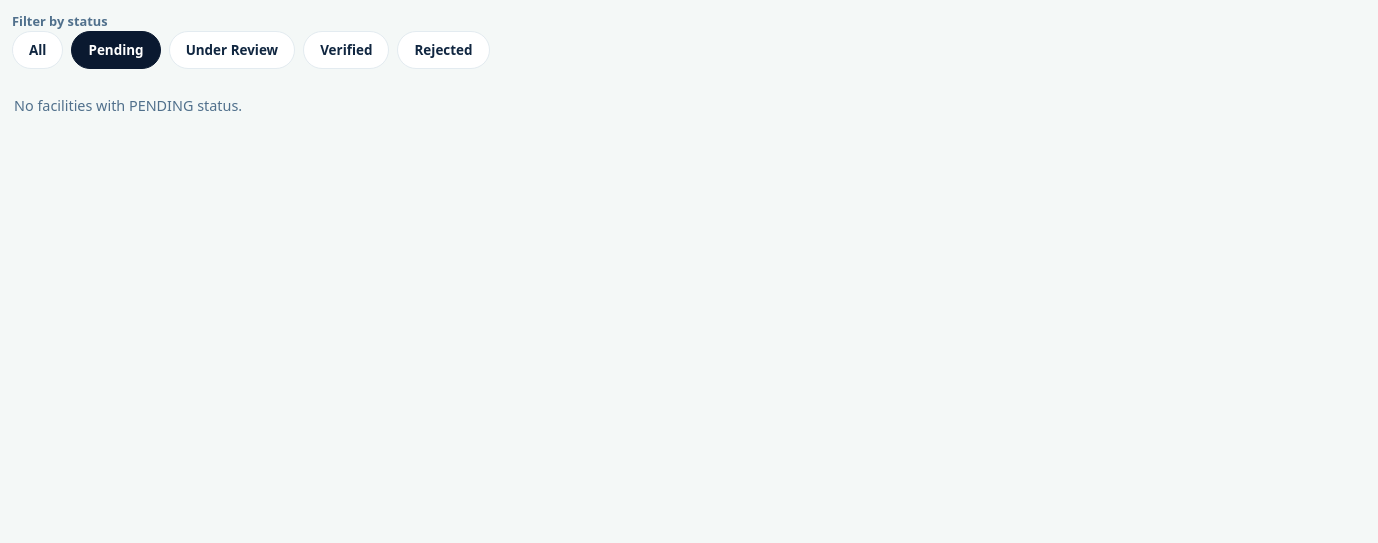
Test case: AdminFacilities › approves an under-review facility and refreshes the list
The width and height of the screenshot is (1378, 543).
Step 1. Click the button "Under Review" → point(232, 50), box [169,31,295,69]
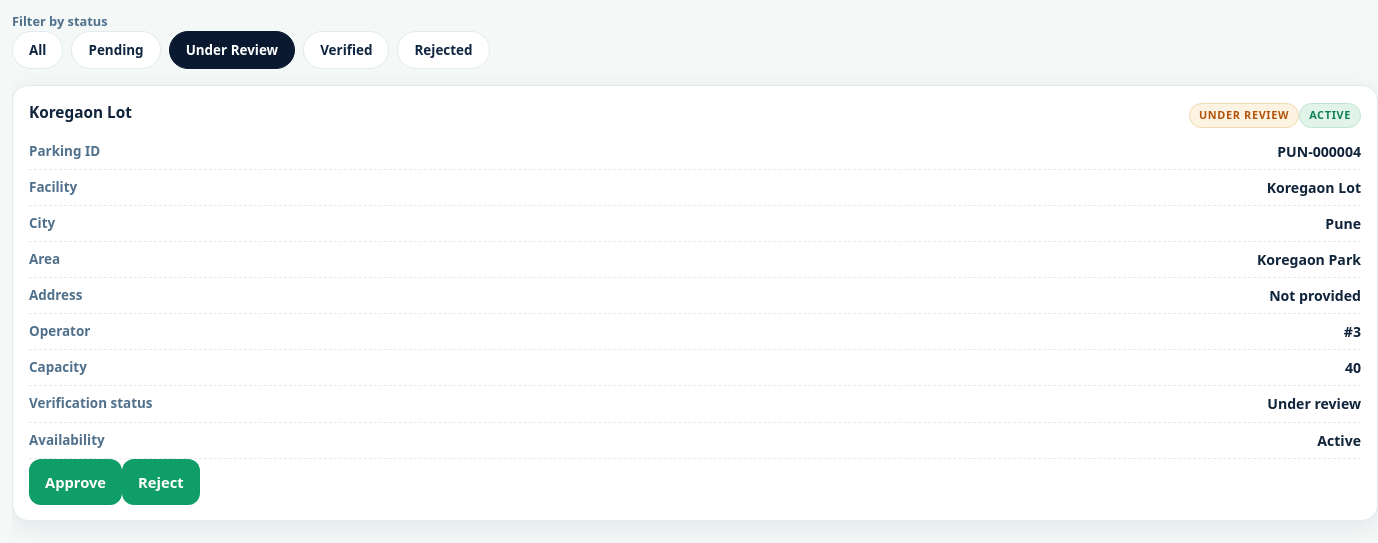
Step 2. Click the button with class "admin-facility-approve-button" → point(76, 482), box [29,459,122,505]
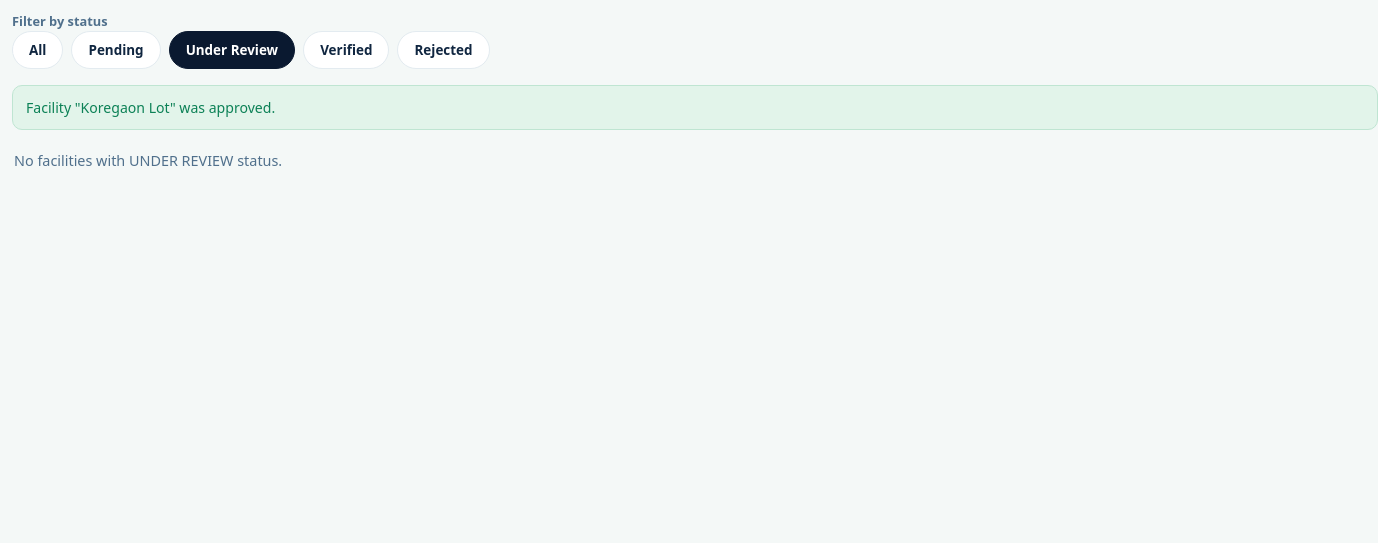
Expected: the message "Facility \"Koregaon Lot\" was approved." is shown, [12,85,1377,130]
